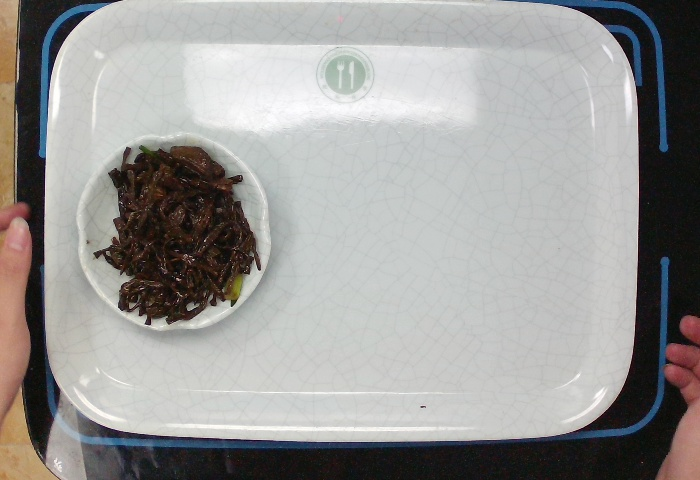JYsf-Ao_Yuan_Wan: (60, 122, 278, 333)
